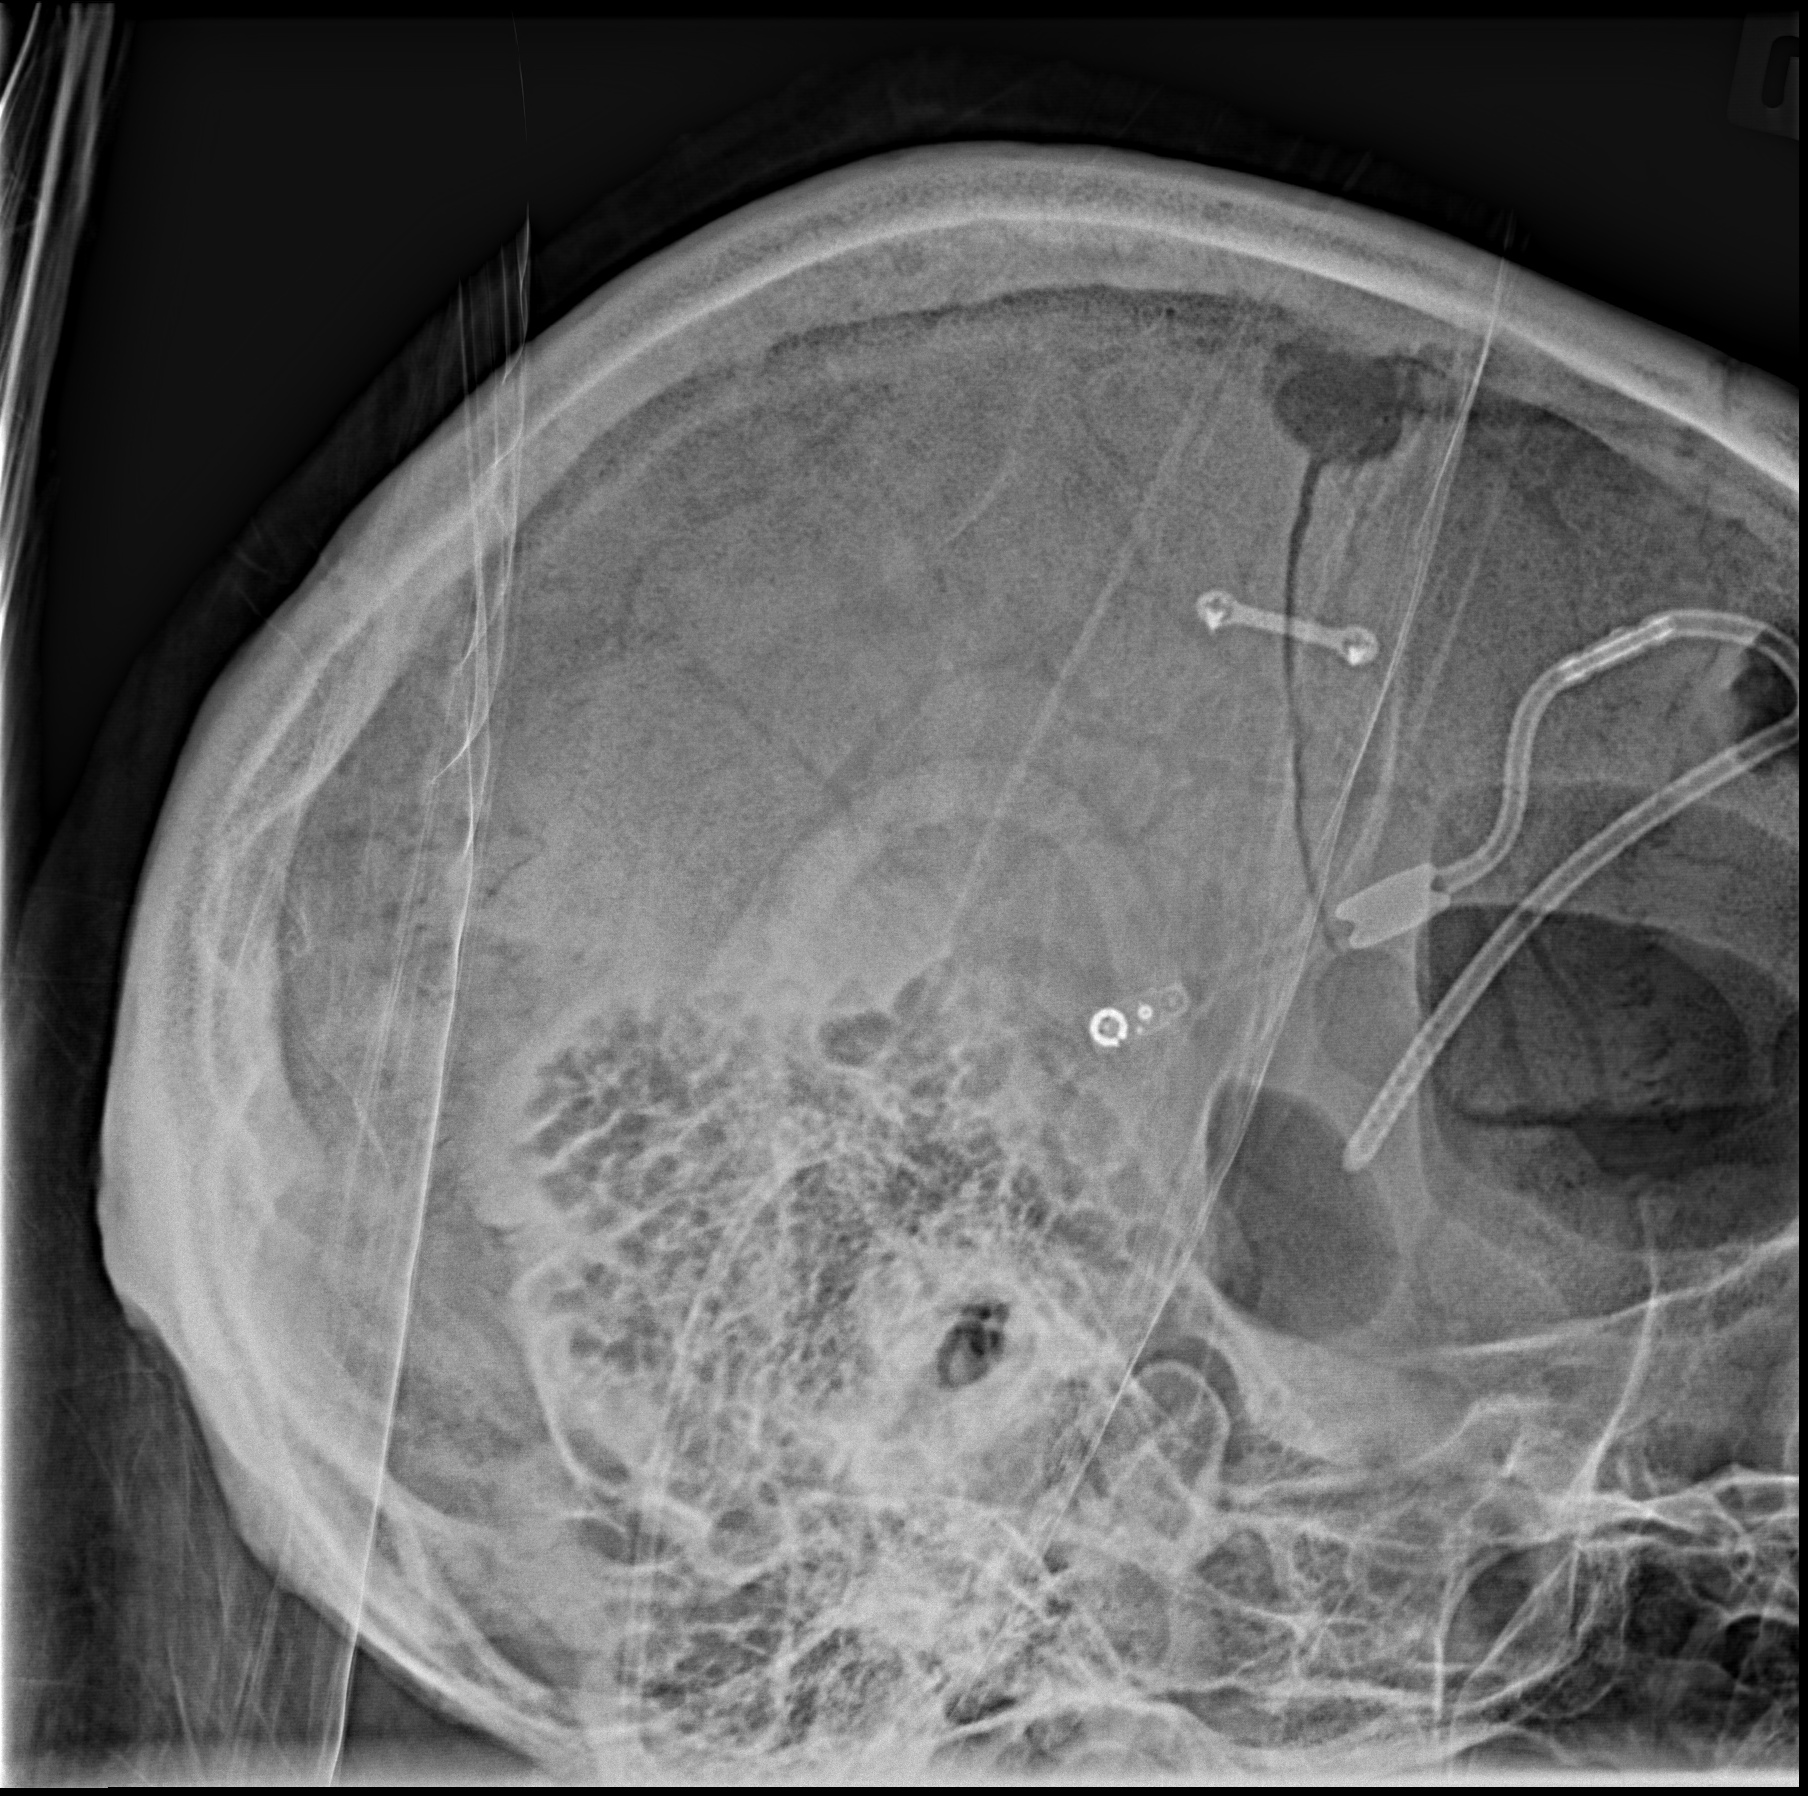Codman Hakim: (1084, 972, 1198, 1066)
